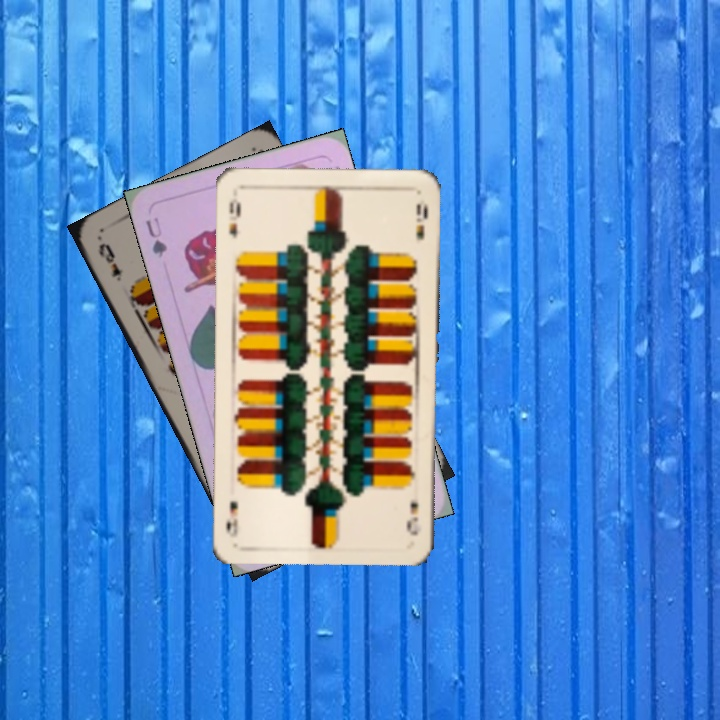E9: (94, 239, 125, 284), (225, 194, 244, 240), (404, 498, 421, 538)
GU: (141, 213, 170, 260)
